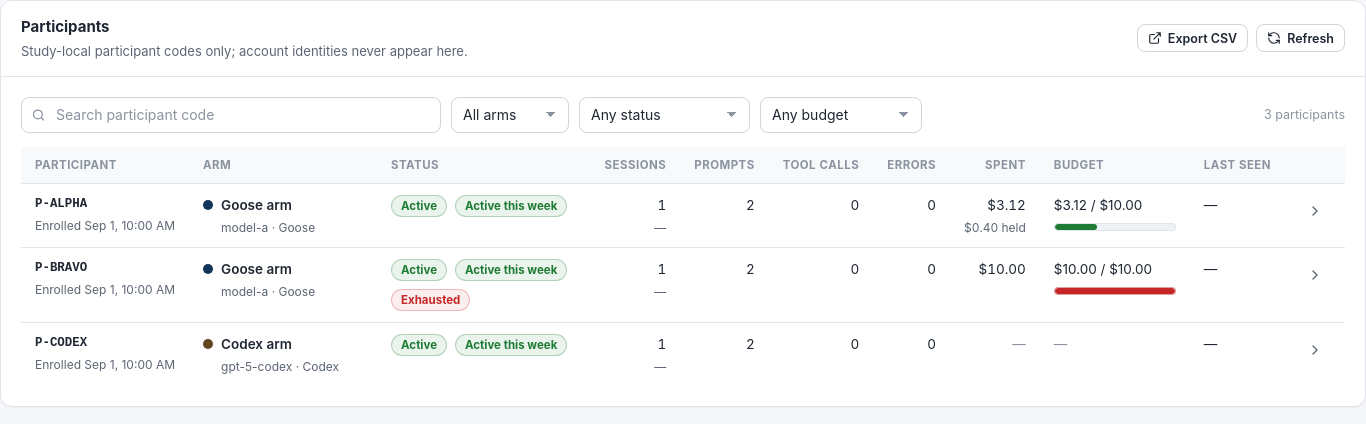
Test: lists spend and budget per participant with an Exhausted badge and filter
Expected: the column heading "Spent" is shown, [950,147,1040,184]
Expected: the column heading "Budget" is shown, [1040,147,1190,184]
Select "Exhausted" in the dropdown named "Filter by budget" at (841, 115), box [760,97,922,133]
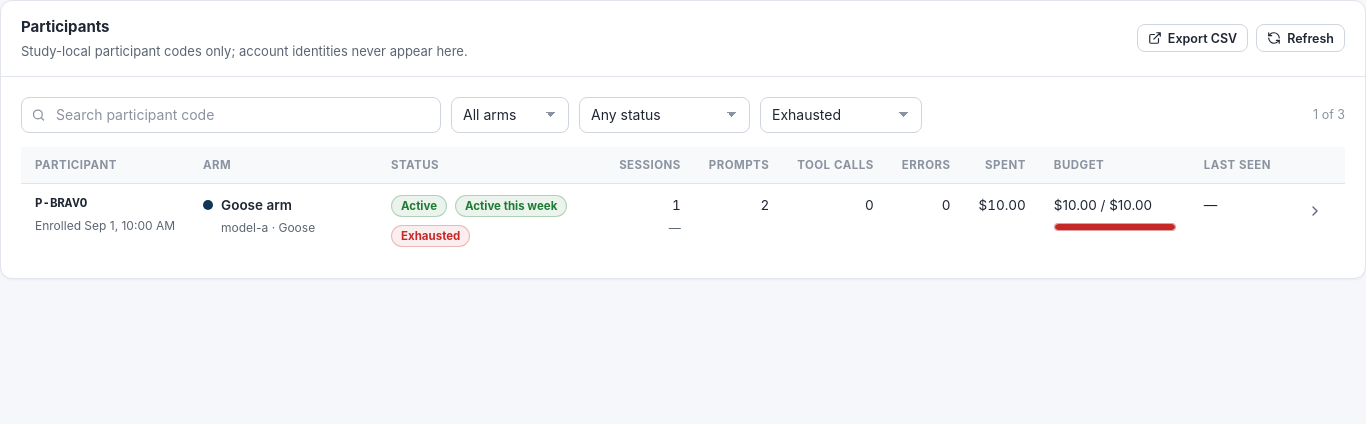
Expected: the text "P-BRAVO" is shown, [35,197,87,211]
Result: the text "P-ALPHA" is gone
Select "Budget remaining" in the dropdown named "Filter by budget" at (841, 115), box [760,97,922,133]
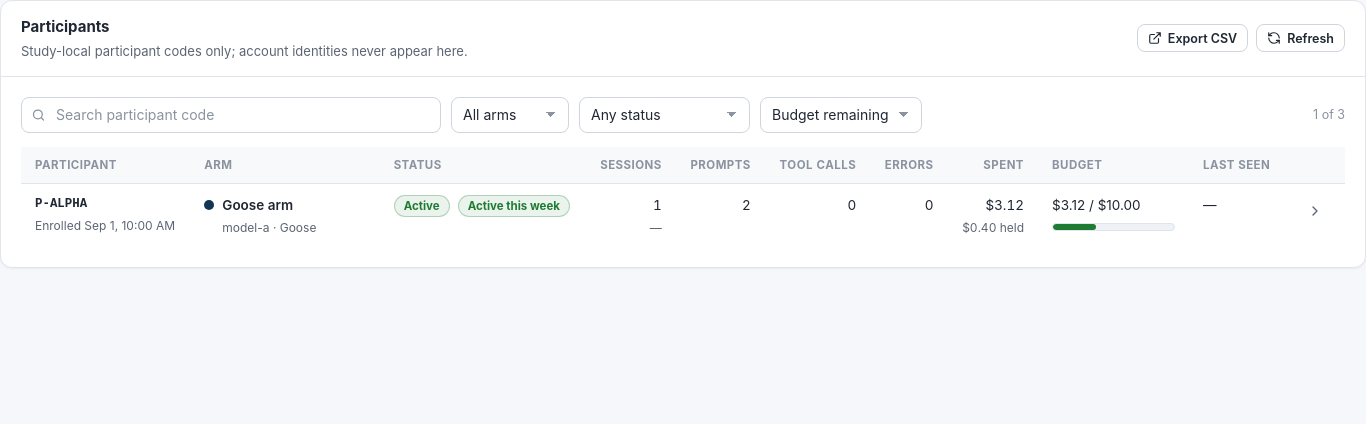
Expected: the text "P-CODEX" is not shown
Result: the text "P-ALPHA" is shown at [35,197,87,211]
Result: the text "P-BRAVO" is gone
